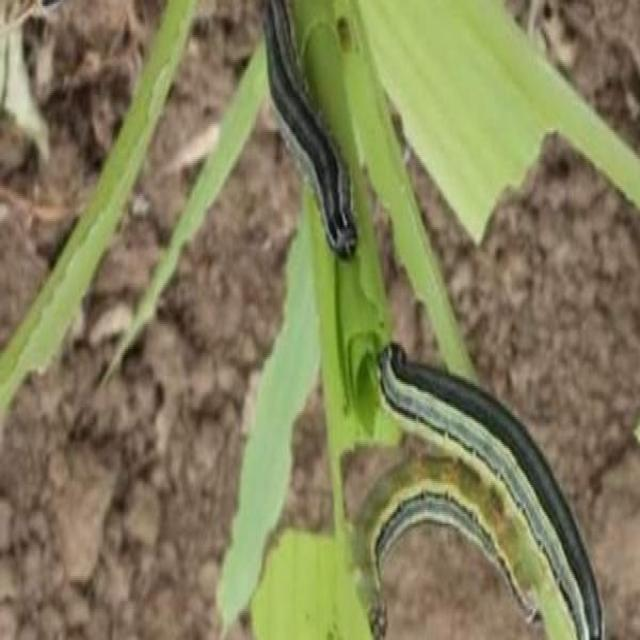army worm: (368, 346, 610, 640), (252, 1, 363, 271), (362, 485, 542, 626)
